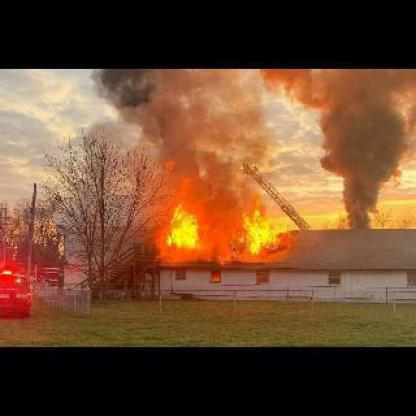fire: (155, 174, 292, 263)
